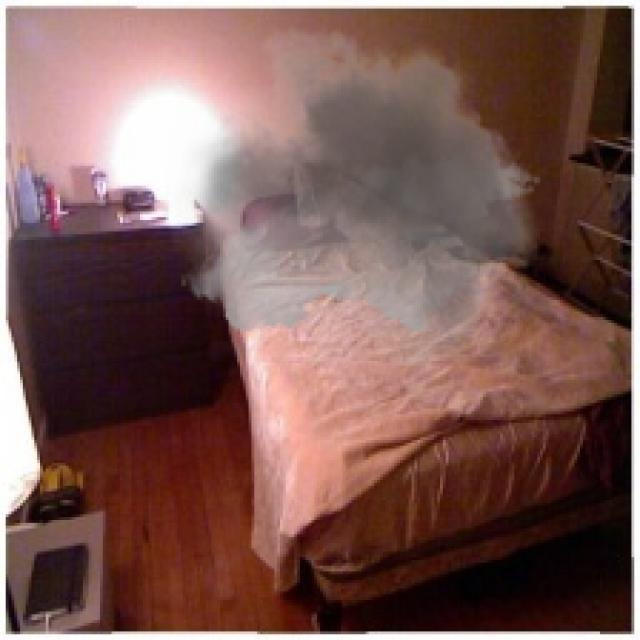smoke: (166, 9, 554, 414)
